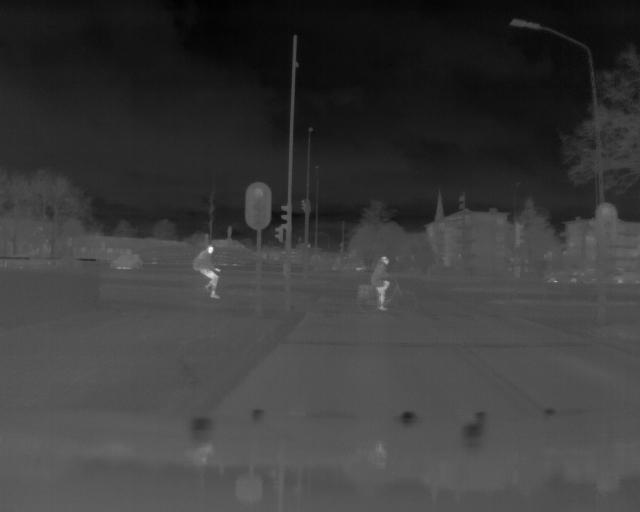car: (107, 251, 145, 274)
person: (191, 241, 226, 308), (365, 247, 398, 315)
